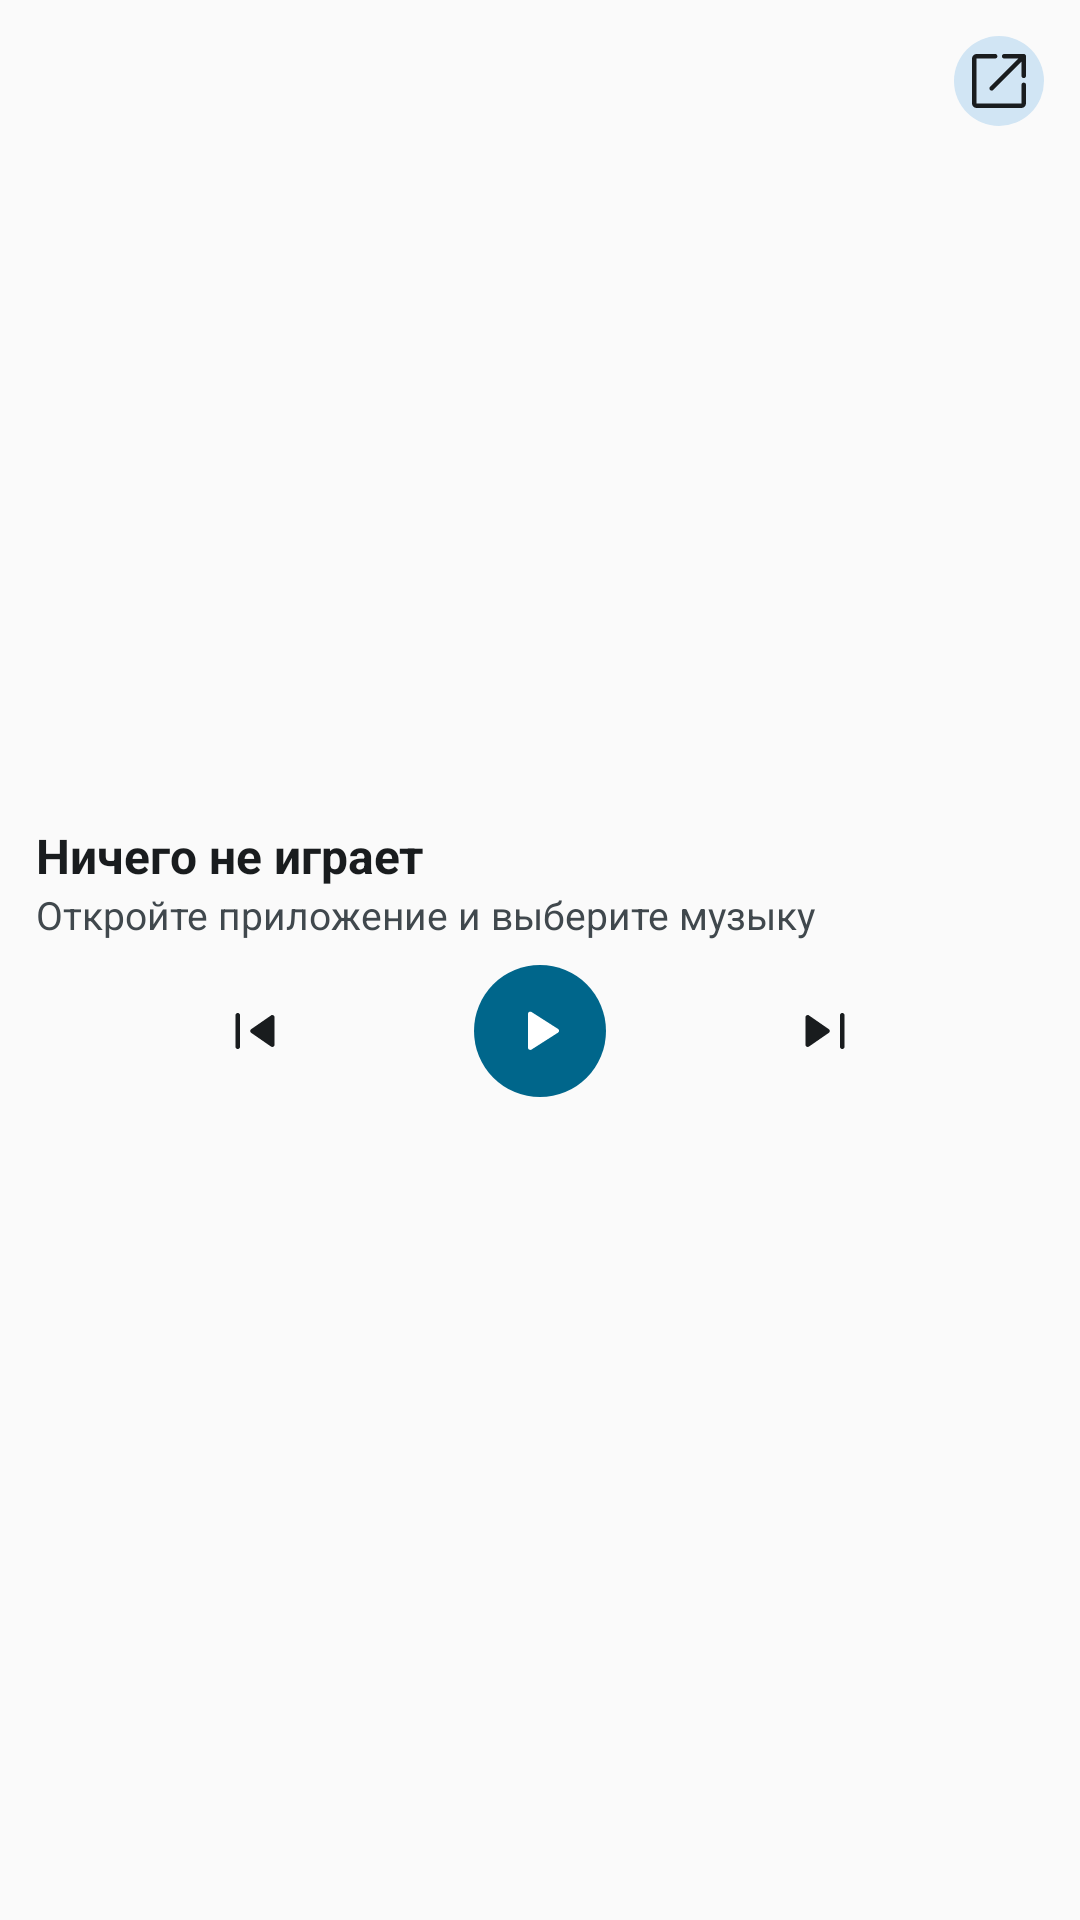

Named icons in this screenshot (1080px x 1920px) and their bounding boxes, [x1=x1, y1=y1, x2=x2, y2=y2]:
Играть: [x1=474, y1=965, x2=606, y2=1097]
Открыть плеер: [x1=954, y1=36, x2=1044, y2=126]
Предыдущий трек: [x1=235, y1=1013, x2=275, y2=1049]
Следующий трек: [x1=805, y1=1013, x2=845, y2=1049]
